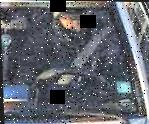seatbelt: (66, 17, 115, 73)
